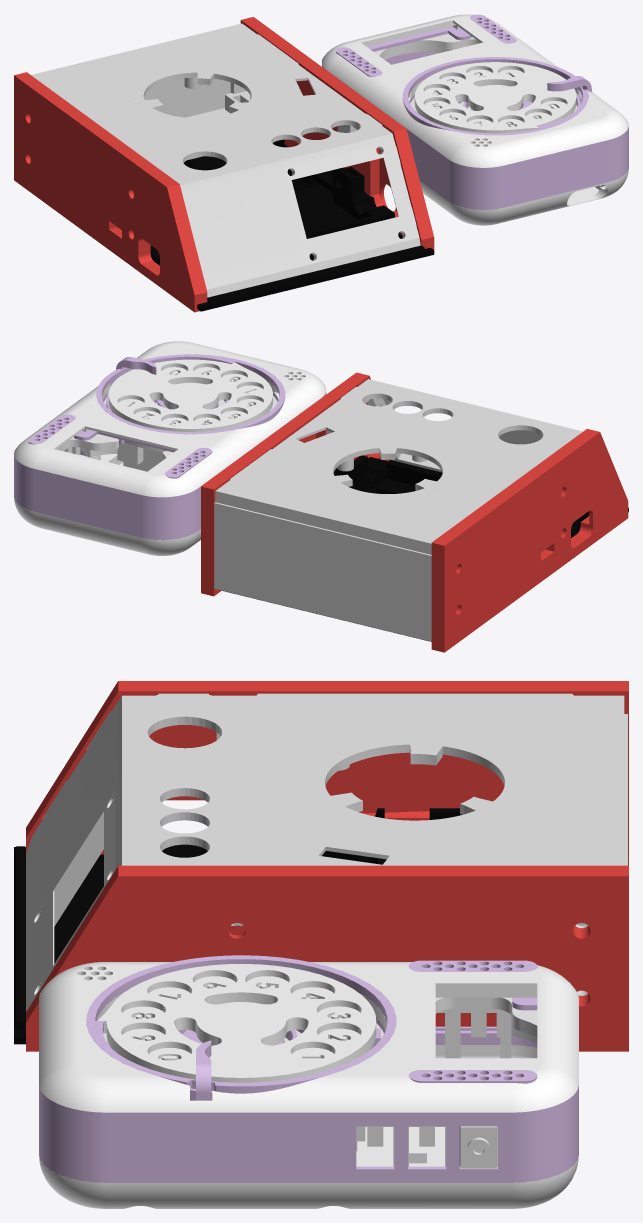
The model's file is rotary_cell_phone_5and6.glb.
The picture shows the model from 3 angles, top to bottom: view 1: azimuth 30°, elevation 25°; view 2: azimuth 150°, elevation 25°; view 3: azimuth 270°, elevation 25°; orthographic projection. The views are drawn at different scales.
Parts seen in each view (by area): view 1: Cube.007, FrontDialPlate-1, SideSupport-1, Dial-2, BackPlate-1, FrontDialRing-1, Speaker+ButtonsHolder-1, SpeakerGrill-1, SpeakerGrill-2, FingerStop-1; view 2: Cube.007, FrontDialPlate-1, Dial-2, SideSupport-1, BackPlate-1, FrontDialRing-1, DialHolder2-1, Speaker+ButtonsHolder-1, SpeakerGrill-1, SpeakerGrill-2, FingerStop-1; view 3: Cube.007, FrontDialPlate-1, SideSupport-1, Dial-2, BackPlate-1, FrontDialRing-1, Speaker+ButtonsHolder-1, ButtonSelect-1, SpeakerGrill-2, SpeakerGrill-1, FingerStop-1.
Boxes of the visible parts, box(x1,y1,x2,y2) form: Cube.007: box(14, 17, 434, 312); FrontDialPlate-1: box(322, 14, 628, 167); SideSupport-1: box(322, 26, 628, 209); Dial-2: box(414, 62, 576, 133); BackPlate-1: box(420, 169, 628, 225); FrontDialRing-1: box(402, 57, 588, 135); Speaker+ButtonsHolder-1: box(374, 33, 480, 59); SpeakerGrill-1: box(336, 47, 382, 76); SpeakerGrill-2: box(470, 14, 516, 43); FingerStop-1: box(547, 76, 591, 104); Cube.007: box(201, 372, 628, 652); FrontDialPlate-1: box(14, 341, 326, 497); Dial-2: box(108, 359, 272, 431); SideSupport-1: box(14, 392, 326, 540); BackPlate-1: box(14, 454, 200, 555); FrontDialRing-1: box(96, 354, 285, 434); DialHolder2-1: box(104, 396, 277, 471); Speaker+ButtonsHolder-1: box(57, 434, 173, 460); SpeakerGrill-1: box(165, 447, 212, 478); SpeakerGrill-2: box(28, 414, 75, 444); FingerStop-1: box(116, 357, 156, 374); Cube.007: box(14, 681, 628, 1051); FrontDialPlate-1: box(39, 962, 578, 1112); SideSupport-1: box(39, 997, 578, 1182); Dial-2: box(98, 964, 376, 1082); BackPlate-1: box(39, 1045, 578, 1208); FrontDialRing-1: box(86, 955, 396, 1093); Speaker+ButtonsHolder-1: box(356, 997, 537, 1166); ButtonSelect-1: box(459, 1126, 497, 1168); SpeakerGrill-2: box(408, 1070, 537, 1083); SpeakerGrill-1: box(408, 960, 537, 971); FingerStop-1: box(196, 1040, 211, 1100).
Bounding box in the file's own units: 195 × 43 × 137.
